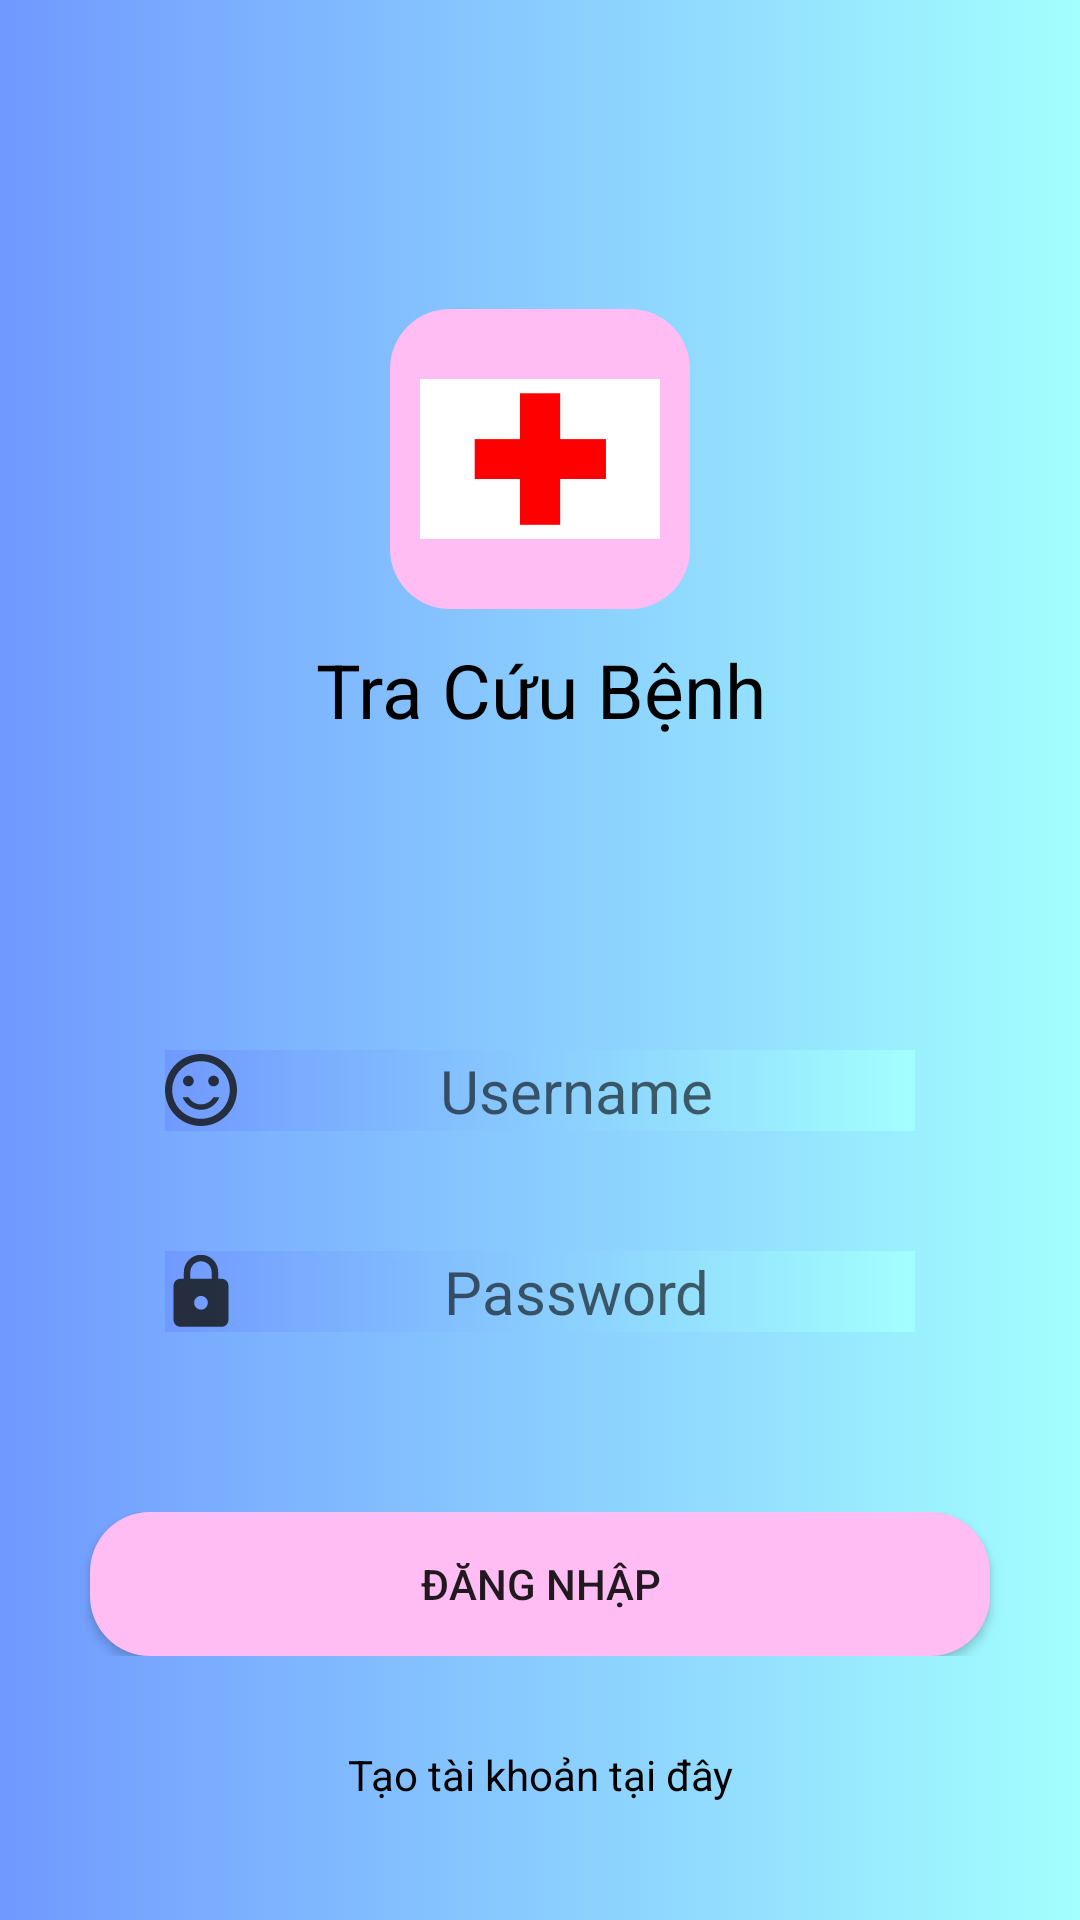

Named icons in this screenshot (1080×1920) and their centers, (x=x, y=y):
app: (x=540, y=459)
